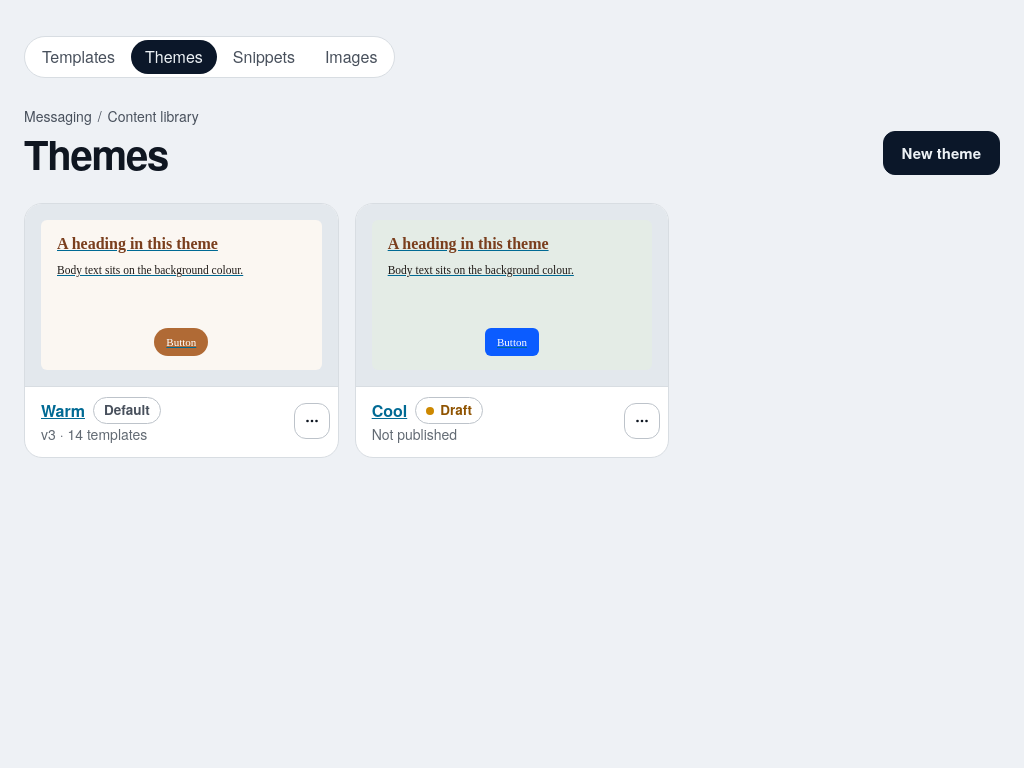
Test: the theme list › shows the refusal when an unpublished theme is made the default
The image size is (1024, 768).
Click the button named "More actions for Cool".
click(642, 421)  # box [624,403,660,439]
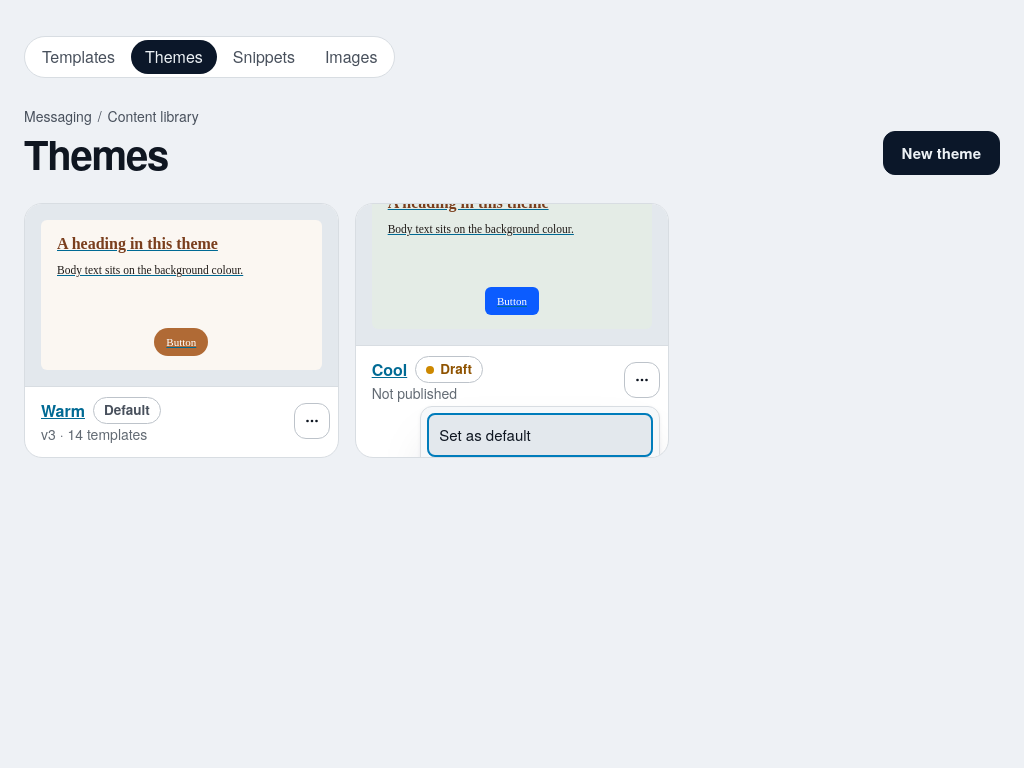
Click the menu item "Set as default".
click(540, 435)  # box [427,413,653,457]
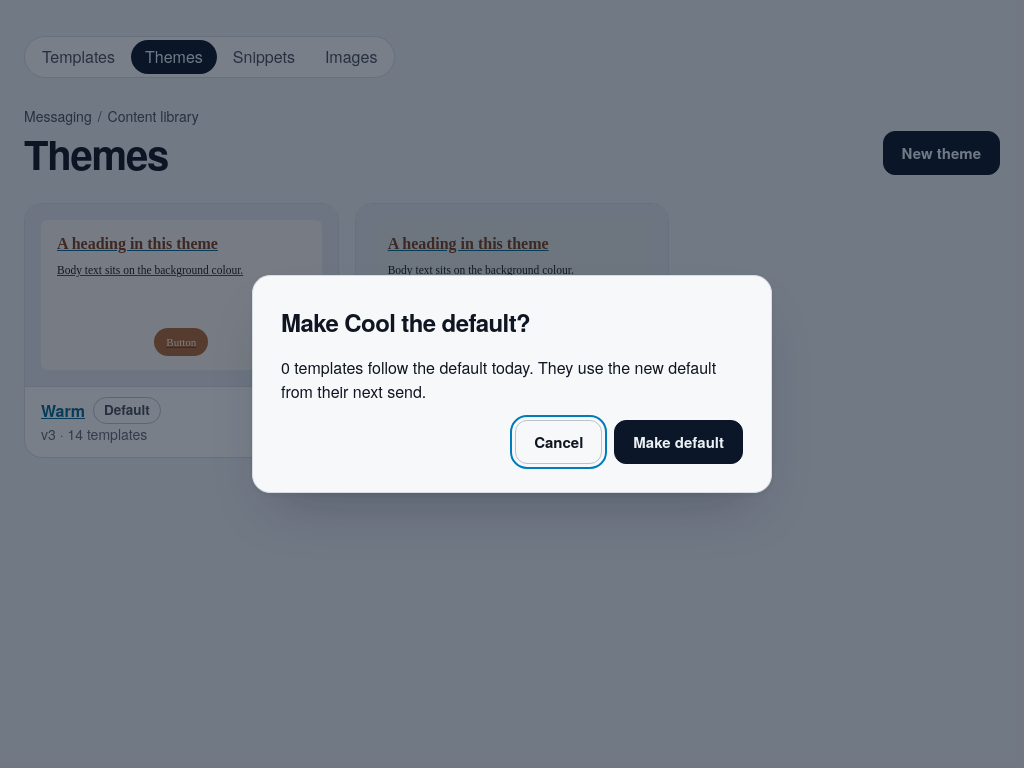
Click the button "Make default".
click(679, 442)  # box [614,420,743,464]
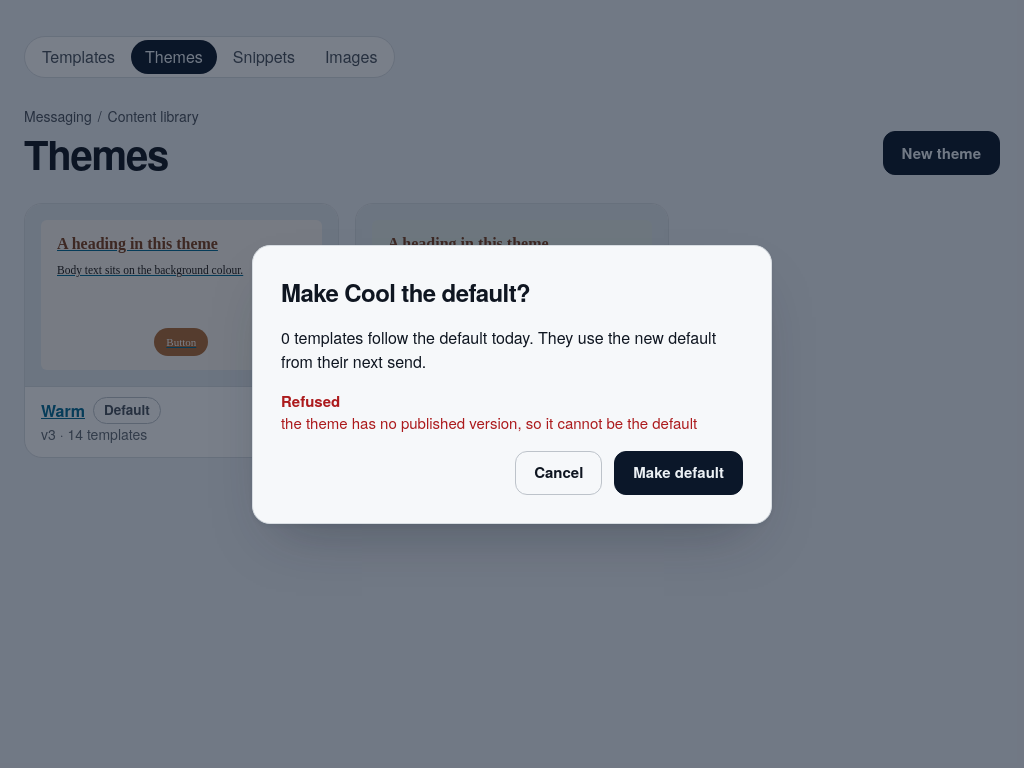
Expected: the text "cannot be the default" is shown, [281,412,697,433]
